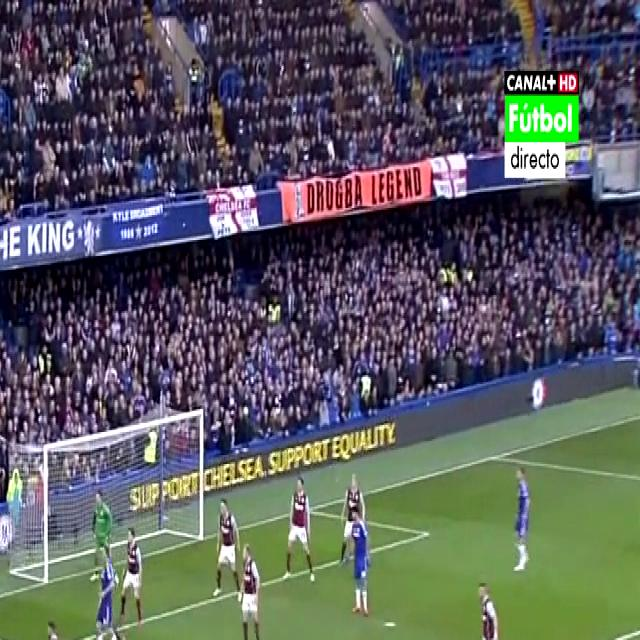goalkeeper: (91, 484, 111, 583)
soccer-player: (503, 458, 537, 575), (286, 462, 318, 585), (89, 538, 126, 640), (345, 508, 379, 618), (121, 531, 153, 640), (237, 544, 270, 640), (213, 500, 244, 602), (470, 576, 510, 640), (35, 610, 77, 640)
